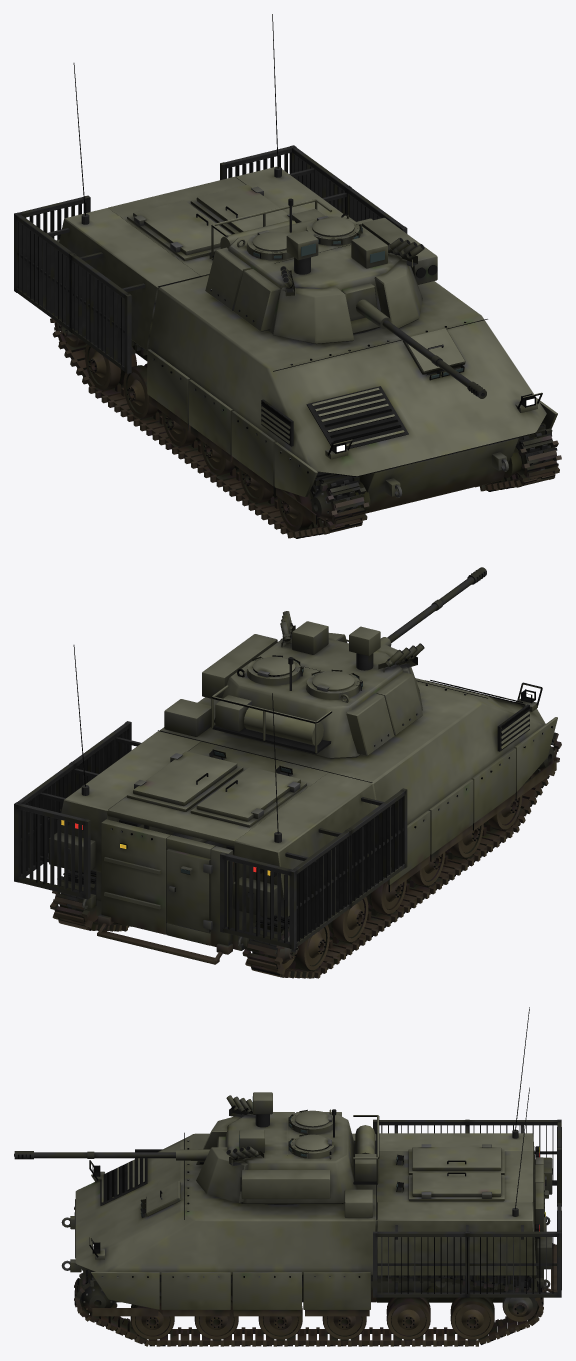
The model's file is tracked-infantry-fighting-vehicle.glb.
3 views of the same model, one above another, from view 1: azimuth 30°, elevation 25°; view 2: azimuth 150°, elevation 25°; view 3: azimuth 270°, elevation 25° (orthographic). The views are drawn at different scales.
Parts seen in each view (by area): view 1: body, turret_mesh, hatch_roof_R_mesh, hatch_roof_L_mesh, gun_mesh, hatch_driver_mesh, road_wheel_R5_mesh, road_wheel_R6_mesh, road_wheel_R1_mesh, sprocket_R_mesh, hatch_gunner_mesh, hatch_commander_mesh; view 2: body, turret_mesh, ramp_mesh, ramp_door_mesh, hatch_roof_L_mesh, hatch_roof_R_mesh, road_wheel_R5_mesh, gun_mesh, road_wheel_R6_mesh, road_wheel_R4_mesh, hatch_commander_mesh, hatch_gunner_mesh (+3 smaller); view 3: body, turret_mesh, hatch_roof_R_mesh, hatch_roof_L_mesh, road_wheel_L5_mesh, road_wheel_L6_mesh, gun_mesh, road_wheel_L1_mesh, road_wheel_L2_mesh, road_wheel_L3_mesh, road_wheel_L4_mesh, idler_L_mesh (+5 smaller).
Boxes of the visible parts, x1,y1,x2,y2 form: body: [14, 14, 561, 538]; turret_mesh: [205, 198, 437, 344]; hatch_roof_R_mesh: [133, 200, 230, 255]; hatch_roof_L_mesh: [196, 185, 294, 232]; gun_mesh: [341, 282, 486, 398]; hatch_driver_mesh: [403, 328, 465, 374]; road_wheel_R5_mesh: [123, 363, 161, 418]; road_wheel_R6_mesh: [85, 344, 136, 390]; road_wheel_R1_mesh: [277, 482, 320, 531]; sprocket_R_mesh: [310, 479, 357, 525]; hatch_gunner_mesh: [312, 215, 354, 237]; hatch_commander_mesh: [252, 230, 288, 251]; body: [14, 639, 561, 978]; turret_mesh: [202, 611, 424, 758]; ramp_mesh: [98, 819, 232, 954]; ramp_door_mesh: [166, 849, 212, 932]; hatch_roof_L_mesh: [133, 751, 237, 806]; hatch_roof_R_mesh: [196, 767, 300, 821]; road_wheel_R5_mesh: [328, 897, 368, 942]; gun_mesh: [380, 567, 486, 646]; road_wheel_R6_mesh: [293, 925, 329, 970]; road_wheel_R4_mesh: [366, 880, 406, 914]; hatch_commander_mesh: [312, 671, 354, 691]; hatch_gunner_mesh: [252, 656, 295, 677]; body: [61, 1007, 561, 1346]; turret_mesh: [196, 1092, 379, 1203]; hatch_roof_R_mesh: [412, 1144, 501, 1170]; hatch_roof_L_mesh: [412, 1172, 501, 1198]; road_wheel_L5_mesh: [386, 1290, 430, 1339]; road_wheel_L6_mesh: [450, 1290, 494, 1339]; gun_mesh: [14, 1136, 225, 1163]; road_wheel_L1_mesh: [130, 1291, 174, 1339]; road_wheel_L2_mesh: [194, 1295, 238, 1339]; road_wheel_L3_mesh: [258, 1306, 302, 1339]; road_wheel_L4_mesh: [322, 1316, 366, 1339]; idler_L_mesh: [502, 1281, 538, 1321].
Bounding box in the file's own units: 3.79 × 3.94 × 7.71.
5 materials, 1 textured.
